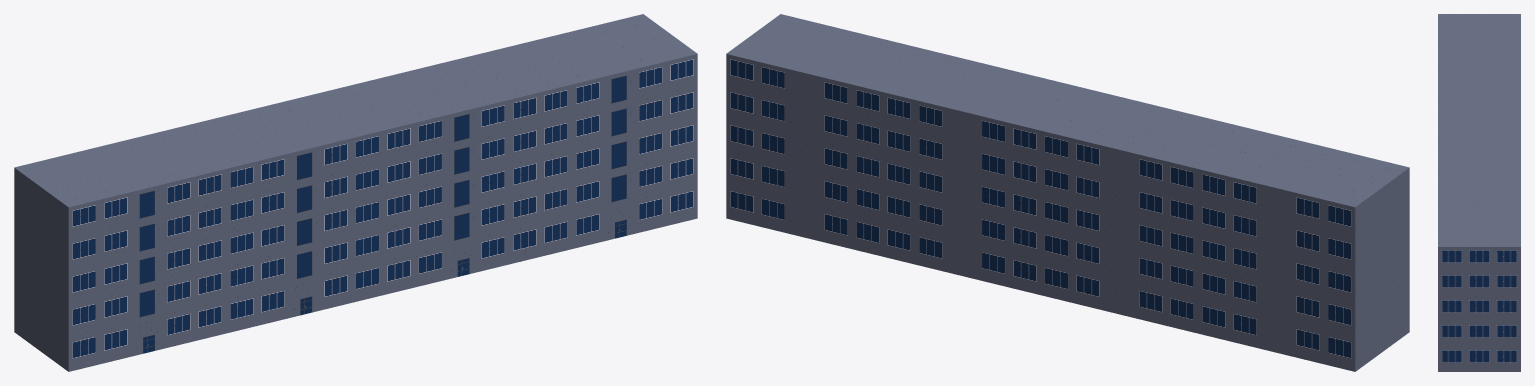
Rendered from blend_big_building_15_100.glb.
The picture shows the model from 3 angles, left to right: view 1: azimuth 30°, elevation 25°; view 2: azimuth 150°, elevation 25°; view 3: azimuth 270°, elevation 25°; orthographic projection. The views are drawn at different scales.
Visible parts, largest first — view 1: Cube; view 2: Cube; view 3: Cube.
Part boxes in pixels (x1,y1,x2,y2): Cube: [14, 14, 697, 371]; Cube: [726, 14, 1409, 371]; Cube: [1438, 14, 1520, 371].
Size of the model in its own units: 20 by 5 by 3.
1 material, 1 textured.
